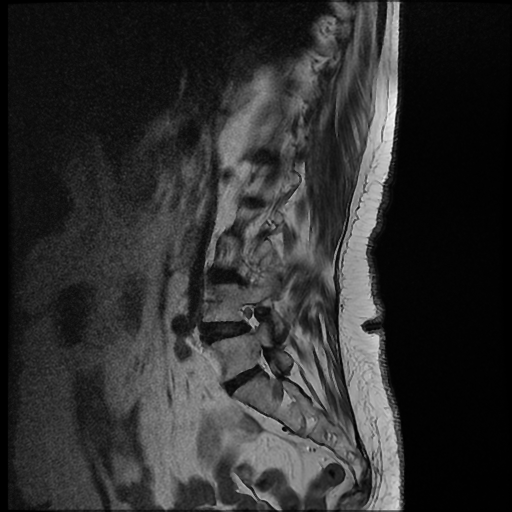RFS0: (231, 294, 270, 340)
